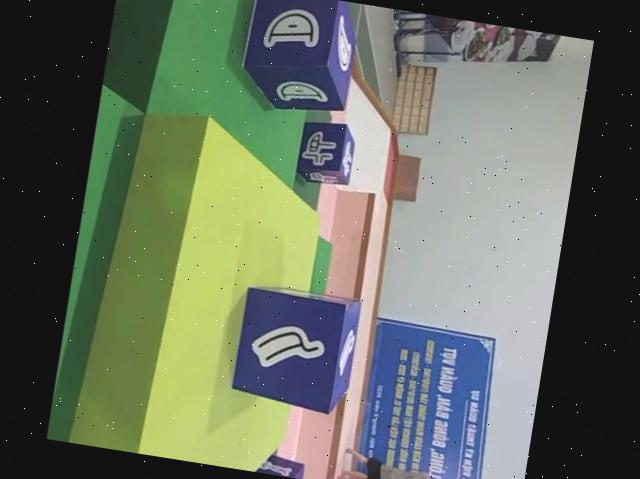R2 Real Blue: (225, 277, 361, 414), (232, 0, 362, 118), (292, 114, 357, 186), (238, 444, 305, 479)
